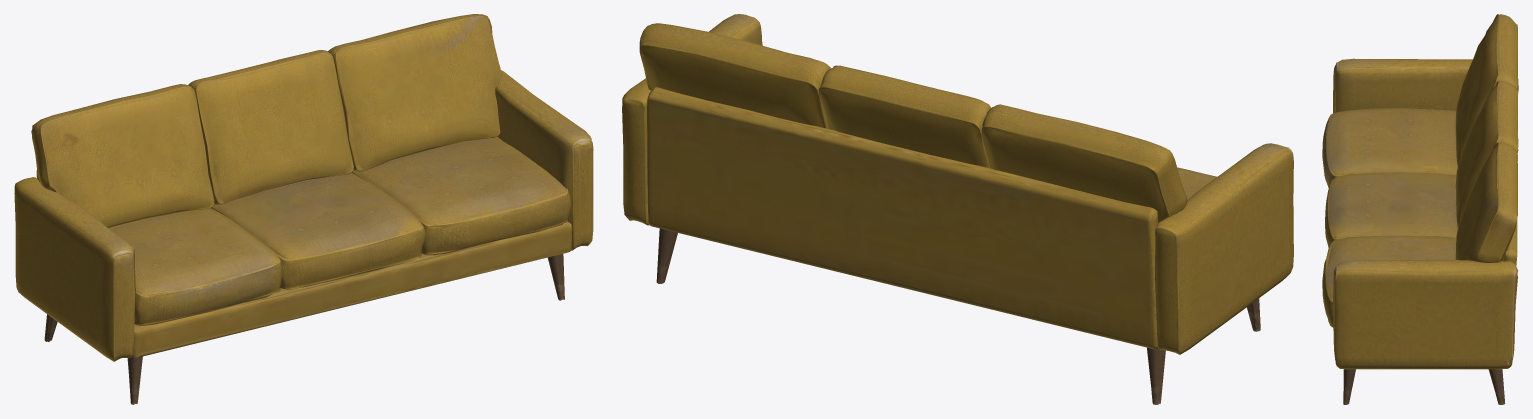
The model's file is skyways-d-ds-sofa.glb.
3 views of the same model, side by side, from view 1: azimuth 30°, elevation 25°; view 2: azimuth 150°, elevation 25°; view 3: azimuth 270°, elevation 25° (orthographic). The views are drawn at different scales.
Visible parts, largest first — view 1: skyways-d-ds-sofa; view 2: skyways-d-ds-sofa; view 3: skyways-d-ds-sofa.
Part boxes in pixels (x1,y1,x2,y2): skyways-d-ds-sofa: [14, 14, 593, 404]; skyways-d-ds-sofa: [622, 14, 1293, 404]; skyways-d-ds-sofa: [1322, 14, 1518, 404].
Size of the model in its own units: 2.1 by 0.9214 by 0.8127.
1 material, 1 textured.
